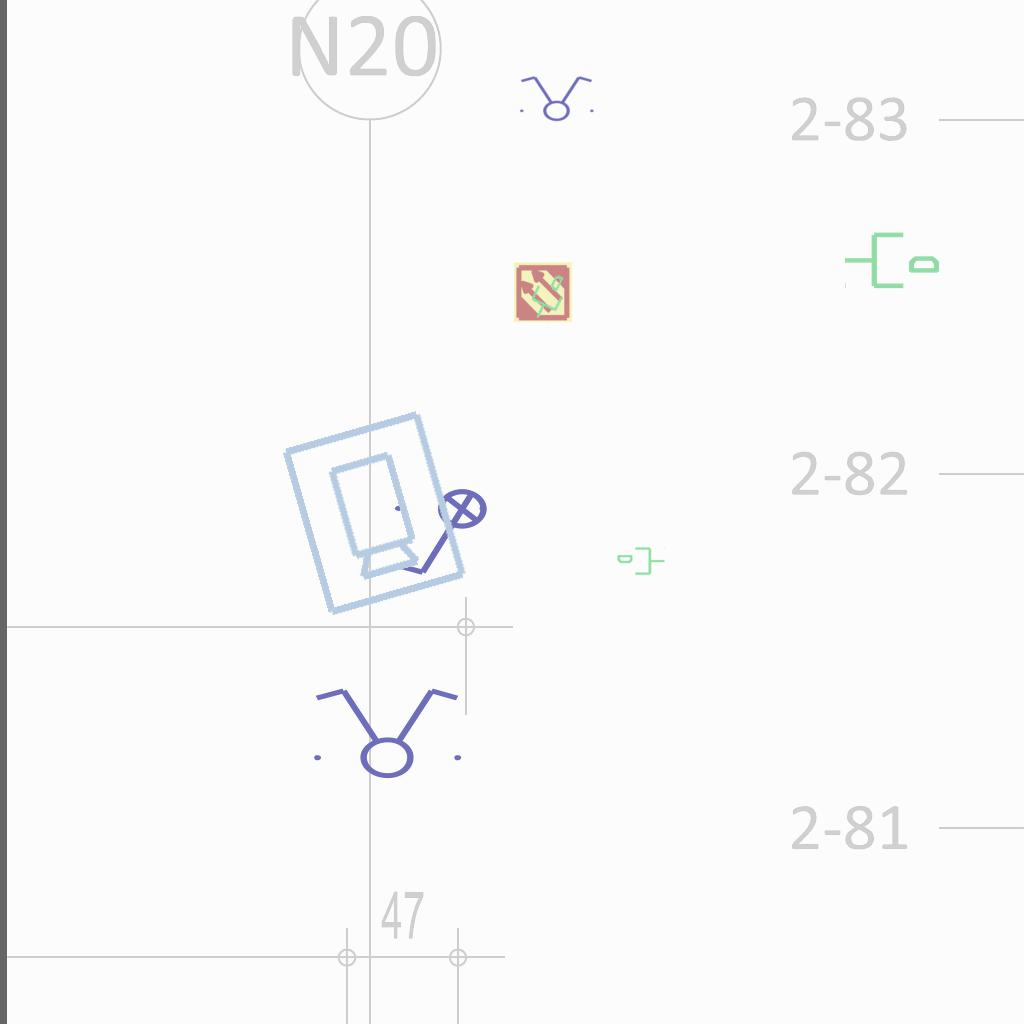ASR_Ansaugrauchmelder: (512, 261, 574, 323)
Ausschalter_beleuchtet: (389, 487, 501, 583)
Datenanschluss_einfach: (842, 224, 942, 293), (520, 266, 574, 326), (616, 545, 666, 579)
KFO_Kamera_mit_Festobjektiv: (273, 404, 473, 622)
Serienschalter: (302, 684, 470, 780), (514, 74, 598, 122)
